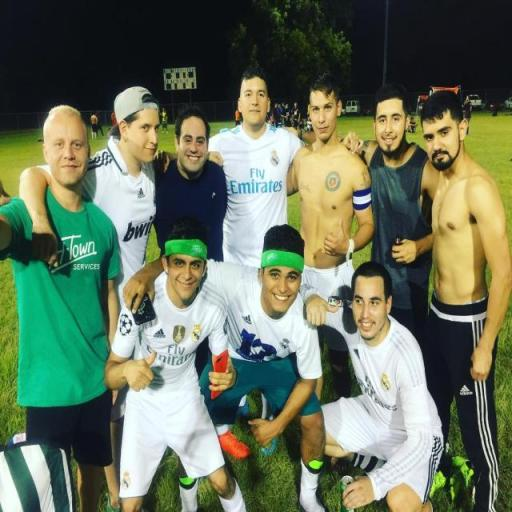Emirates: (224, 167, 282, 193)
